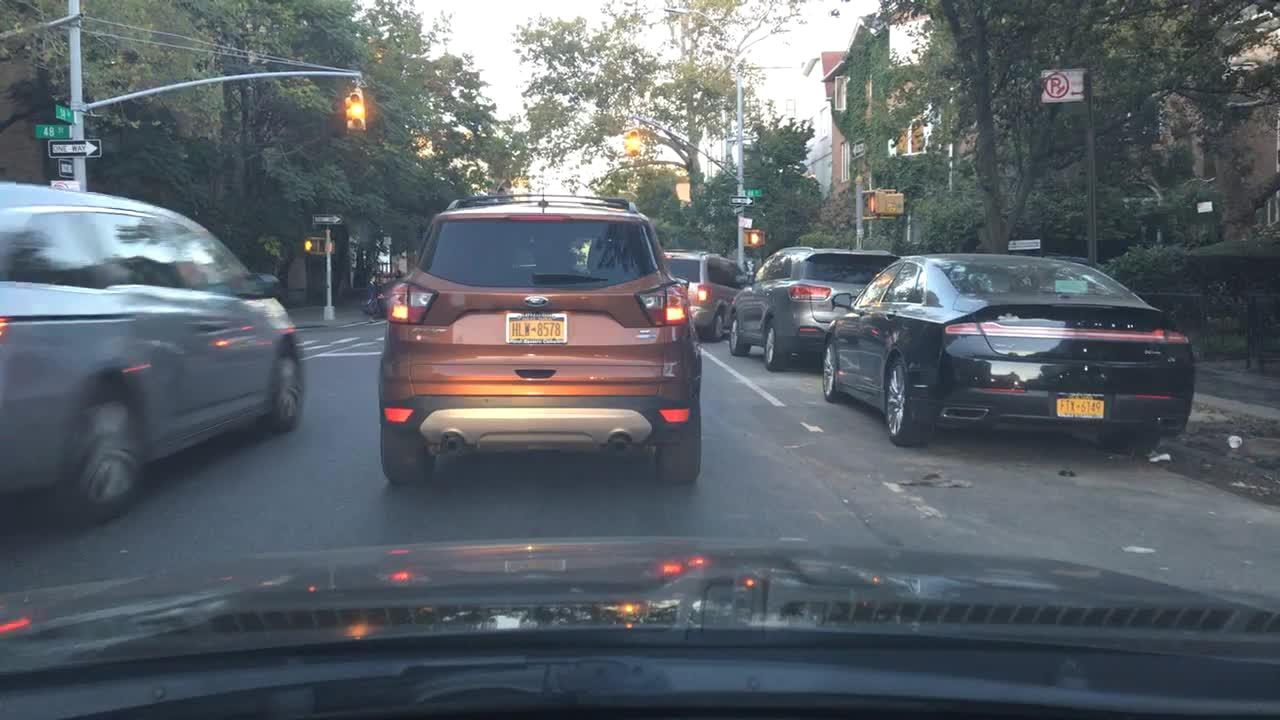ford: (516, 289, 555, 313)
